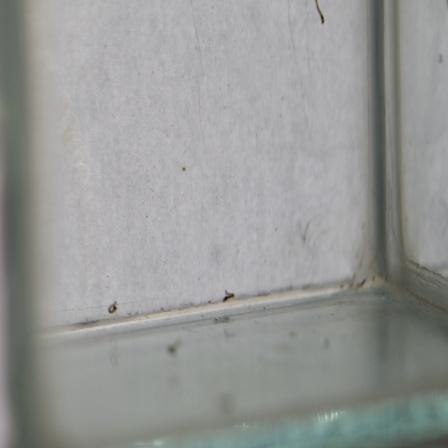Jentik-Nyamuk: (308, 0, 330, 28), (218, 287, 238, 307), (104, 296, 122, 316)
